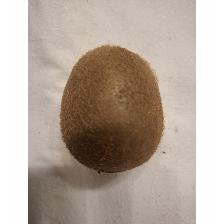Kiwi: (56, 42, 168, 177)
